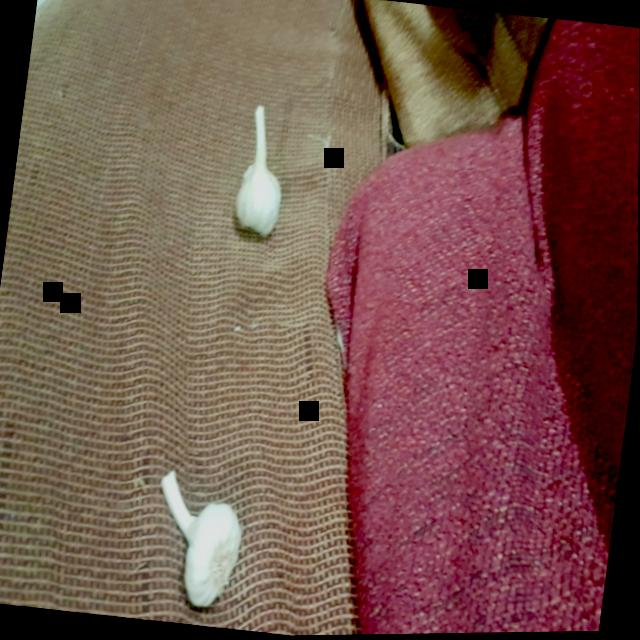garlic: (138, 468, 250, 615), (219, 104, 292, 243)
